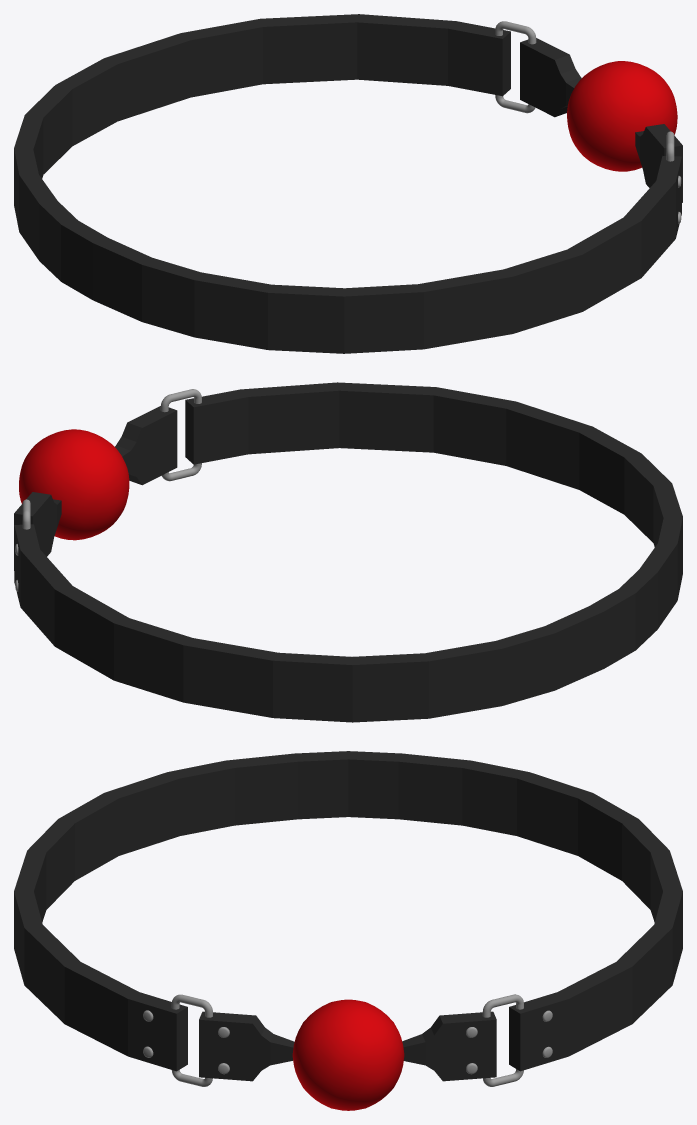
The model's file is Gagball.fbx.
3 views of the same model, one above another, from view 1: azimuth 30°, elevation 25°; view 2: azimuth 150°, elevation 25°; view 3: azimuth 270°, elevation 25° (orthographic).
Parts seen in each view (by area): view 1: Cube.001, Icosphere, Cube.002, Cube, Cylinder.009; view 2: Cube.001, Icosphere, Cube, Cube.002, Cylinder; view 3: Cube.001, Icosphere, Cube, Cube.002, Cylinder.009, Cylinder.
Part boxes in pixels (bbox=[...]): Cube.001: bbox=[14, 14, 681, 353]; Icosphere: bbox=[567, 61, 677, 171]; Cube.002: bbox=[520, 38, 581, 117]; Cube: bbox=[635, 124, 682, 202]; Cylinder.009: bbox=[495, 21, 536, 113]; Cube.001: bbox=[14, 382, 682, 722]; Icosphere: bbox=[19, 429, 129, 540]; Cube: bbox=[115, 406, 177, 485]; Cube.002: bbox=[14, 492, 61, 570]; Cylinder: bbox=[160, 389, 201, 481]; Cube.001: bbox=[14, 751, 682, 1071]; Icosphere: bbox=[292, 999, 404, 1110]; Cube: bbox=[199, 1011, 294, 1081]; Cube.002: bbox=[402, 1011, 496, 1081]; Cylinder.009: bbox=[482, 994, 523, 1086]; Cylinder: bbox=[171, 994, 212, 1086].
Bounding box in the file's own units: 1770 × 281 × 1675.
